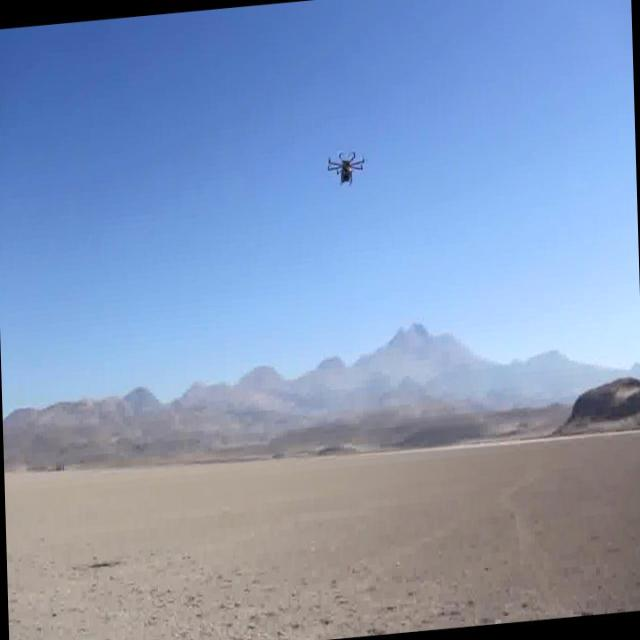drone: (326, 141, 368, 192)
